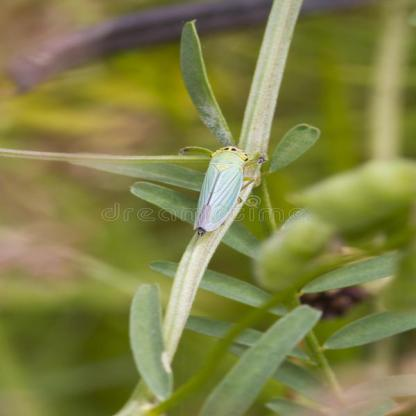Green-Leafhopper: (184, 139, 255, 239)
